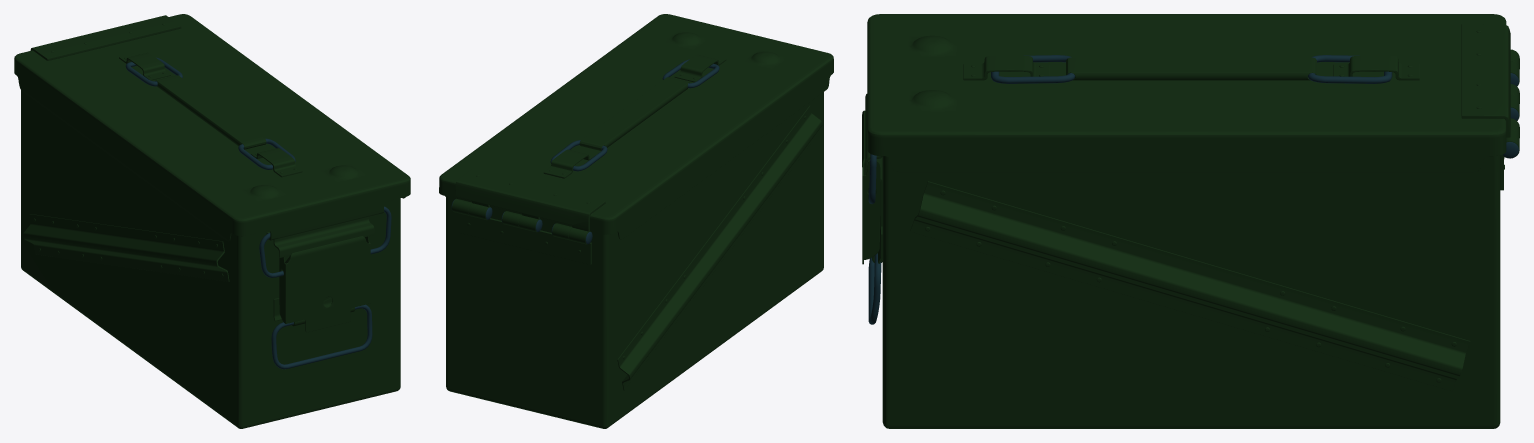
3 views of the same model, side by side, from view 1: azimuth 30°, elevation 25°; view 2: azimuth 150°, elevation 25°; view 3: azimuth 270°, elevation 25° (orthographic). The views are drawn at different scales.
Visible parts, largest first — view 1: pCube1, pCube3, pCube6, pCube4, pCylinder1, pCylinder3, pCube2, pCube5, pTorus2, pTorus3, pTorus1; view 2: pCube1, pCube3, pCube6, pCylinder3, pCylinder6, pCylinder1, pCube5, pTorus3; view 3: pCube1, pCube3, pCube6, pCylinder1, pCylinder3, pCube5, pTorus3, pCube4, pTorus2, pCube2.
Part boxes in pixels (bbox=[...]): pCube1: bbox=[21, 90, 400, 428]; pCube3: bbox=[14, 14, 410, 241]; pCube6: bbox=[23, 214, 229, 281]; pCube4: bbox=[279, 236, 370, 332]; pCylinder1: bbox=[155, 75, 266, 149]; pCylinder3: bbox=[30, 15, 181, 60]; pCube2: bbox=[273, 216, 374, 326]; pCube5: bbox=[119, 52, 302, 177]; pTorus2: bbox=[271, 304, 372, 369]; pTorus3: bbox=[125, 57, 295, 169]; pTorus1: bbox=[259, 206, 391, 277]; pCube1: bbox=[446, 92, 823, 428]; pCube3: bbox=[439, 14, 833, 239]; pCube6: bbox=[617, 105, 822, 390]; pCylinder3: bbox=[455, 168, 605, 244]; pCylinder6: bbox=[452, 198, 591, 264]; pCylinder1: bbox=[579, 77, 689, 150]; pCube5: bbox=[543, 54, 726, 178]; pTorus3: bbox=[550, 59, 719, 171]; pCube1: bbox=[882, 155, 1500, 428]; pCube3: bbox=[867, 14, 1506, 172]; pCube6: bbox=[910, 181, 1470, 391]; pCylinder1: bbox=[1066, 57, 1316, 80]; pCylinder3: bbox=[1461, 24, 1519, 137]; pCube5: bbox=[963, 55, 1419, 80]; pTorus3: bbox=[991, 55, 1392, 83]; pCube4: bbox=[862, 110, 880, 264]; pTorus2: bbox=[868, 253, 881, 324]; pCube2: bbox=[864, 94, 882, 263].
Bounding box in the file's own units: 0.8971 × 1.05 × 2.
